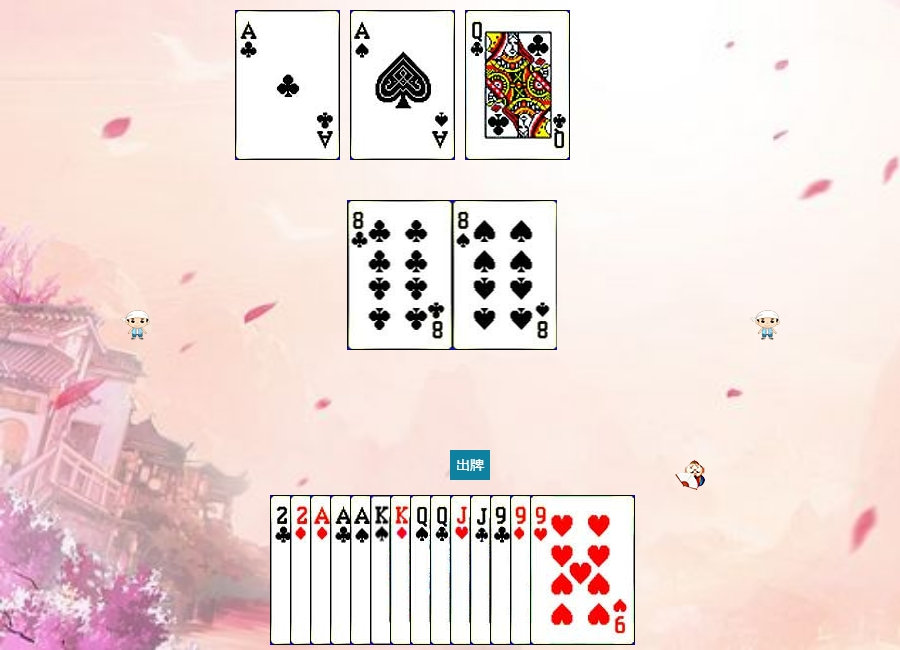11~2: (470, 495, 575, 645)
11~3: (450, 495, 555, 645)
12~2: (465, 10, 570, 160), (430, 495, 535, 645)
12~4: (410, 495, 515, 645)
13~1: (390, 495, 495, 645)
13~4: (370, 495, 475, 645)
14~1: (310, 495, 415, 645)
14~2: (235, 10, 340, 160), (330, 495, 435, 645)
14~4: (350, 10, 455, 160), (350, 495, 455, 645)
15~1: (290, 495, 395, 645)
15~2: (270, 495, 375, 645)
8~2: (348, 200, 453, 350)
8~4: (453, 200, 558, 350)
9~1: (510, 495, 615, 645)
9~2: (490, 495, 595, 645)
9~3: (530, 495, 635, 645)
